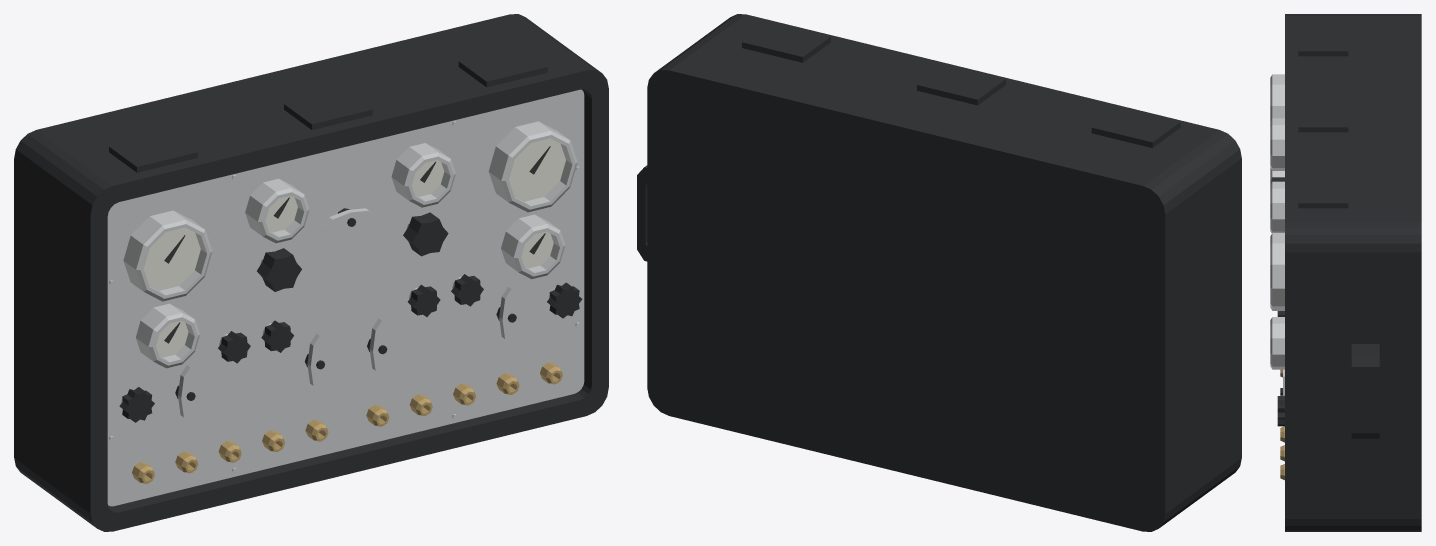
3 renders of one model, left to right at view 1: azimuth 30°, elevation 25°; view 2: azimuth 150°, elevation 25°; view 3: azimuth 270°, elevation 25°, orthographic. The views are drawn at different scales.
Visible parts, largest first — view 1: Inset_metal_panel, Closed_case_estimated_back, Raised_case_rim, Gauge_0_recessed_body, Gauge_1_recessed_body, Gauge_0_face, Gauge_1_face, Gauge_5_recessed_body, Gauge_3_recessed_body, Gauge_4_recessed_body, Gauge_2_recessed_body, Case_latch_2_1 (+19 smaller); view 2: Closed_case_estimated_back, Raised_case_rim, Case_latch_0_1, Case_latch_1_1, Case_latch_2_1, Right_carry_handle; view 3: Closed_case_estimated_back, Raised_case_rim, Right_carry_handle, Case_latch_0_1, Case_latch_1_1, Case_latch_2_1, Gauge_1_recessed_body, Gauge_5_recessed_body, Gauge_2_recessed_body, Gauge_3_recessed_body, Gauge_0_recessed_body, Knob_7_scalloped_grip.
Part boxes in pixels (x1,y1,x2,y2): Inset_metal_panel: (107, 89, 584, 506); Closed_case_estimated_back: (14, 14, 589, 519); Raised_case_rim: (79, 61, 608, 531); Gauge_0_recessed_body: (123, 210, 212, 301); Gauge_1_recessed_body: (488, 121, 577, 212); Gauge_0_face: (143, 227, 200, 290); Gauge_1_face: (509, 138, 565, 201); Gauge_5_recessed_body: (501, 214, 565, 279); Gauge_3_recessed_body: (391, 143, 455, 207); Gauge_4_recessed_body: (135, 303, 199, 368); Gauge_2_recessed_body: (245, 178, 309, 243); Case_latch_2_1: (458, 46, 547, 87); Closed_case_estimated_back: (647, 22, 1230, 531); Raised_case_rim: (719, 14, 1241, 480); Case_latch_0_1: (1091, 107, 1180, 147); Case_latch_1_1: (917, 64, 1005, 105); Case_latch_2_1: (742, 22, 830, 62); Right_carry_handle: (637, 165, 647, 261); Closed_case_estimated_back: (1305, 14, 1421, 531); Raised_case_rim: (1285, 14, 1305, 531); Right_carry_handle: (1351, 344, 1379, 438); Case_latch_0_1: (1298, 24, 1348, 56); Case_latch_1_1: (1298, 100, 1348, 132); Case_latch_2_1: (1298, 176, 1348, 208); Gauge_1_recessed_body: (1270, 233, 1284, 310); Gauge_5_recessed_body: (1270, 317, 1284, 369); Gauge_2_recessed_body: (1270, 118, 1284, 170); Gauge_3_recessed_body: (1270, 181, 1284, 233); Gauge_0_recessed_body: (1270, 74, 1284, 120); Knob_7_scalloped_grip: (1277, 396, 1284, 426).
Size of the model in its own units: 0.852 by 0.527 by 0.227.
